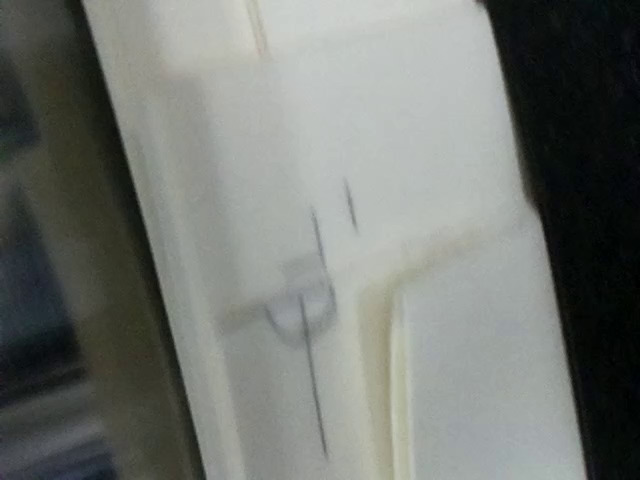not_sure: (218, 216, 349, 356)
